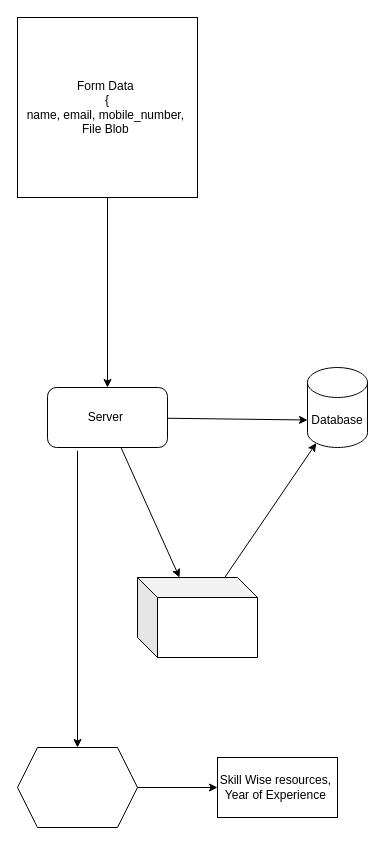
The diagram is 385 pixels wide and 845 high, and some of its shapes have lost their labels. The shapes that lost their labels are listed below. From the top down, each one's centre as x and y in pixels, then its label:
the point at 197,617: AWS Storage
the point at 77,787: FRONT UI END
